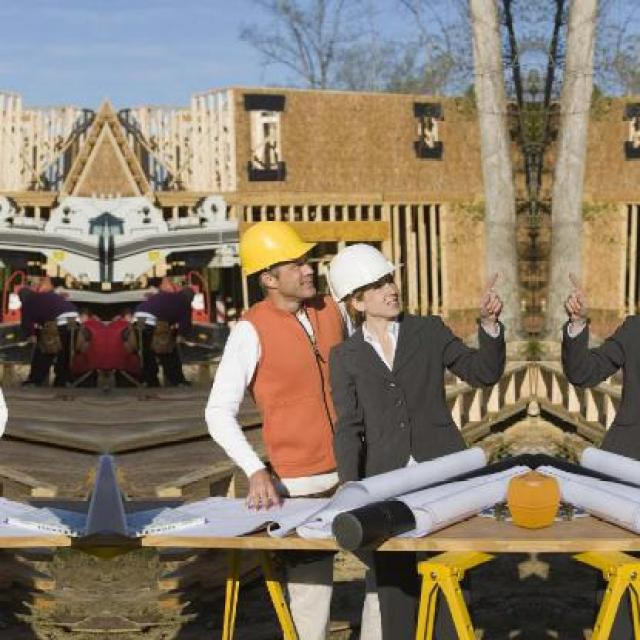helmet: (229, 214, 322, 309), (329, 232, 410, 331)
